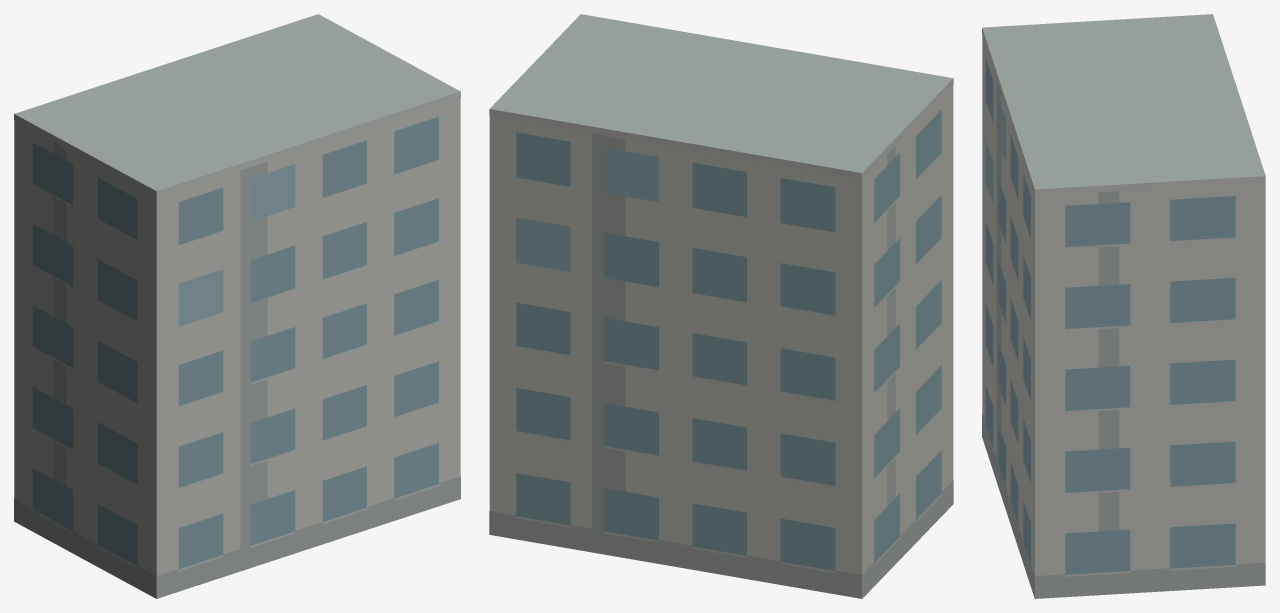
Rendered from residential-67df2e68-25da-41e1-83dd-772275d0885f.glb.
3 renders of one model, left to right at view 1: azimuth 30°, elevation 25°; view 2: azimuth 150°, elevation 25°; view 3: azimuth 270°, elevation 25°, orthographic. The views are drawn at different scales.
Visible parts, largest first — view 1: residential-67df2e68-25da-41e1-83dd-772275d0885f.tmp; view 2: residential-67df2e68-25da-41e1-83dd-772275d0885f.tmp; view 3: residential-67df2e68-25da-41e1-83dd-772275d0885f.tmp.
Part boxes in pixels (x1=…): residential-67df2e68-25da-41e1-83dd-772275d0885f.tmp: x1=14, y1=14, x2=460, y2=598; residential-67df2e68-25da-41e1-83dd-772275d0885f.tmp: x1=489, y1=14, x2=953, y2=598; residential-67df2e68-25da-41e1-83dd-772275d0885f.tmp: x1=982, y1=14, x2=1265, y2=598.
Size of the model in its own units: 14.03 by 15.25 by 9.59.
